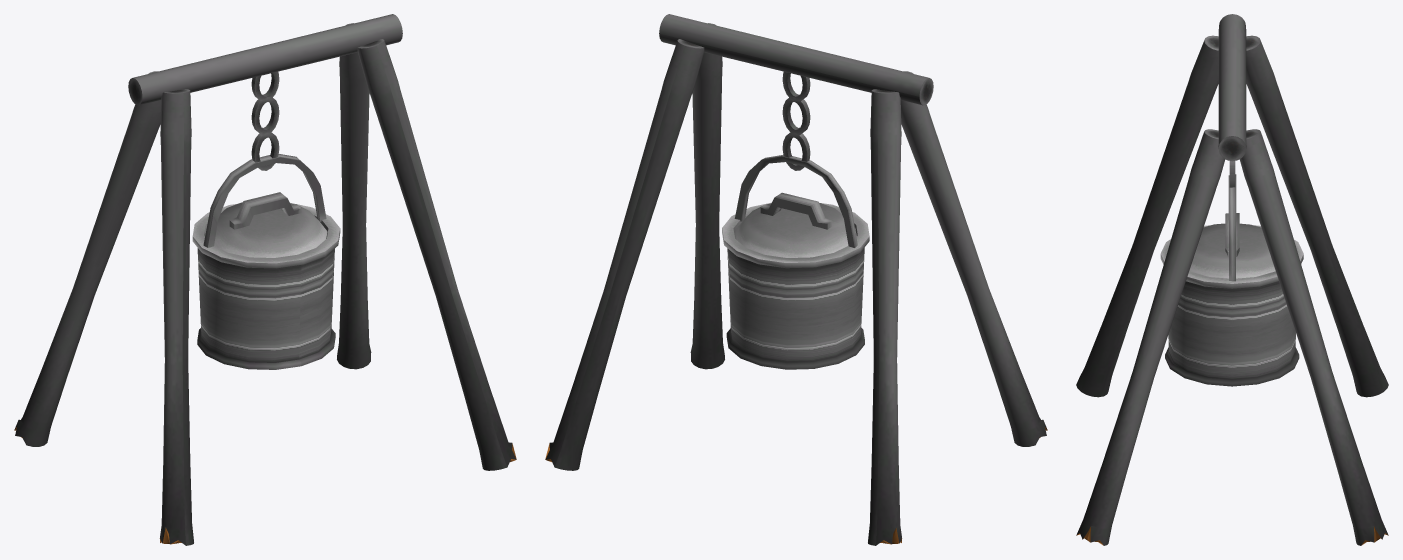
Rendered from FurnaceAnimation.fbx.
3 renders of one model, left to right at view 1: azimuth 30°, elevation 25°; view 2: azimuth 150°, elevation 25°; view 3: azimuth 270°, elevation 25°, orthographic. The views are drawn at different scales.
Parts seen in each view (by area): view 1: Billy; view 2: Billy; view 3: Billy.
Boxes of the visible parts, x1,y1,x2,y2 form: Billy: (14,14,516,545); Billy: (545,14,1047,545); Billy: (1076,14,1388,545).
Bounding box in the file's own units: 2.27 × 2.5 × 1.8.
